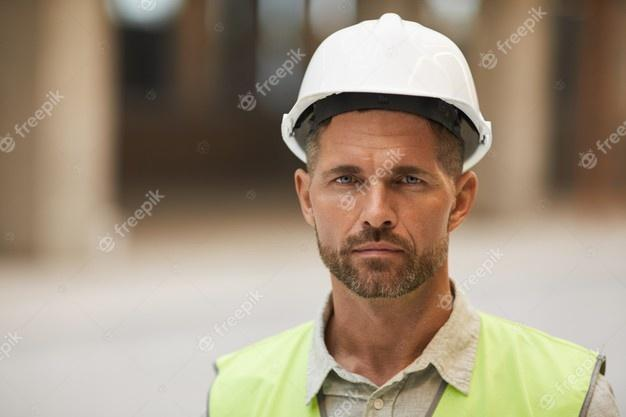hardhat: (281, 14, 494, 168)
worker: (205, 13, 623, 417)
